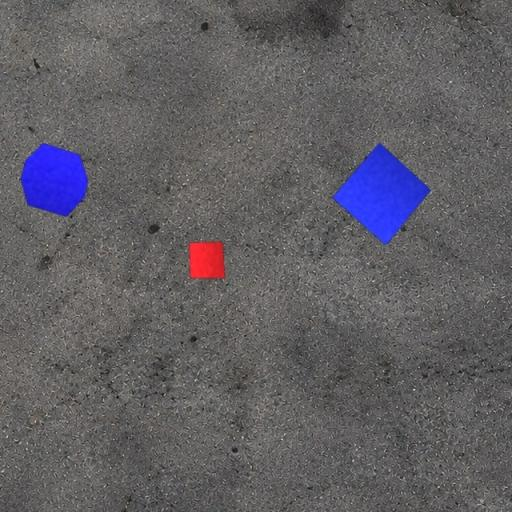BLUE_SQUARE: (331, 142, 431, 246)
RED_SQUARE: (188, 241, 226, 279)
